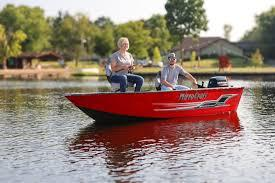fishing boat: (42, 36, 249, 124)
